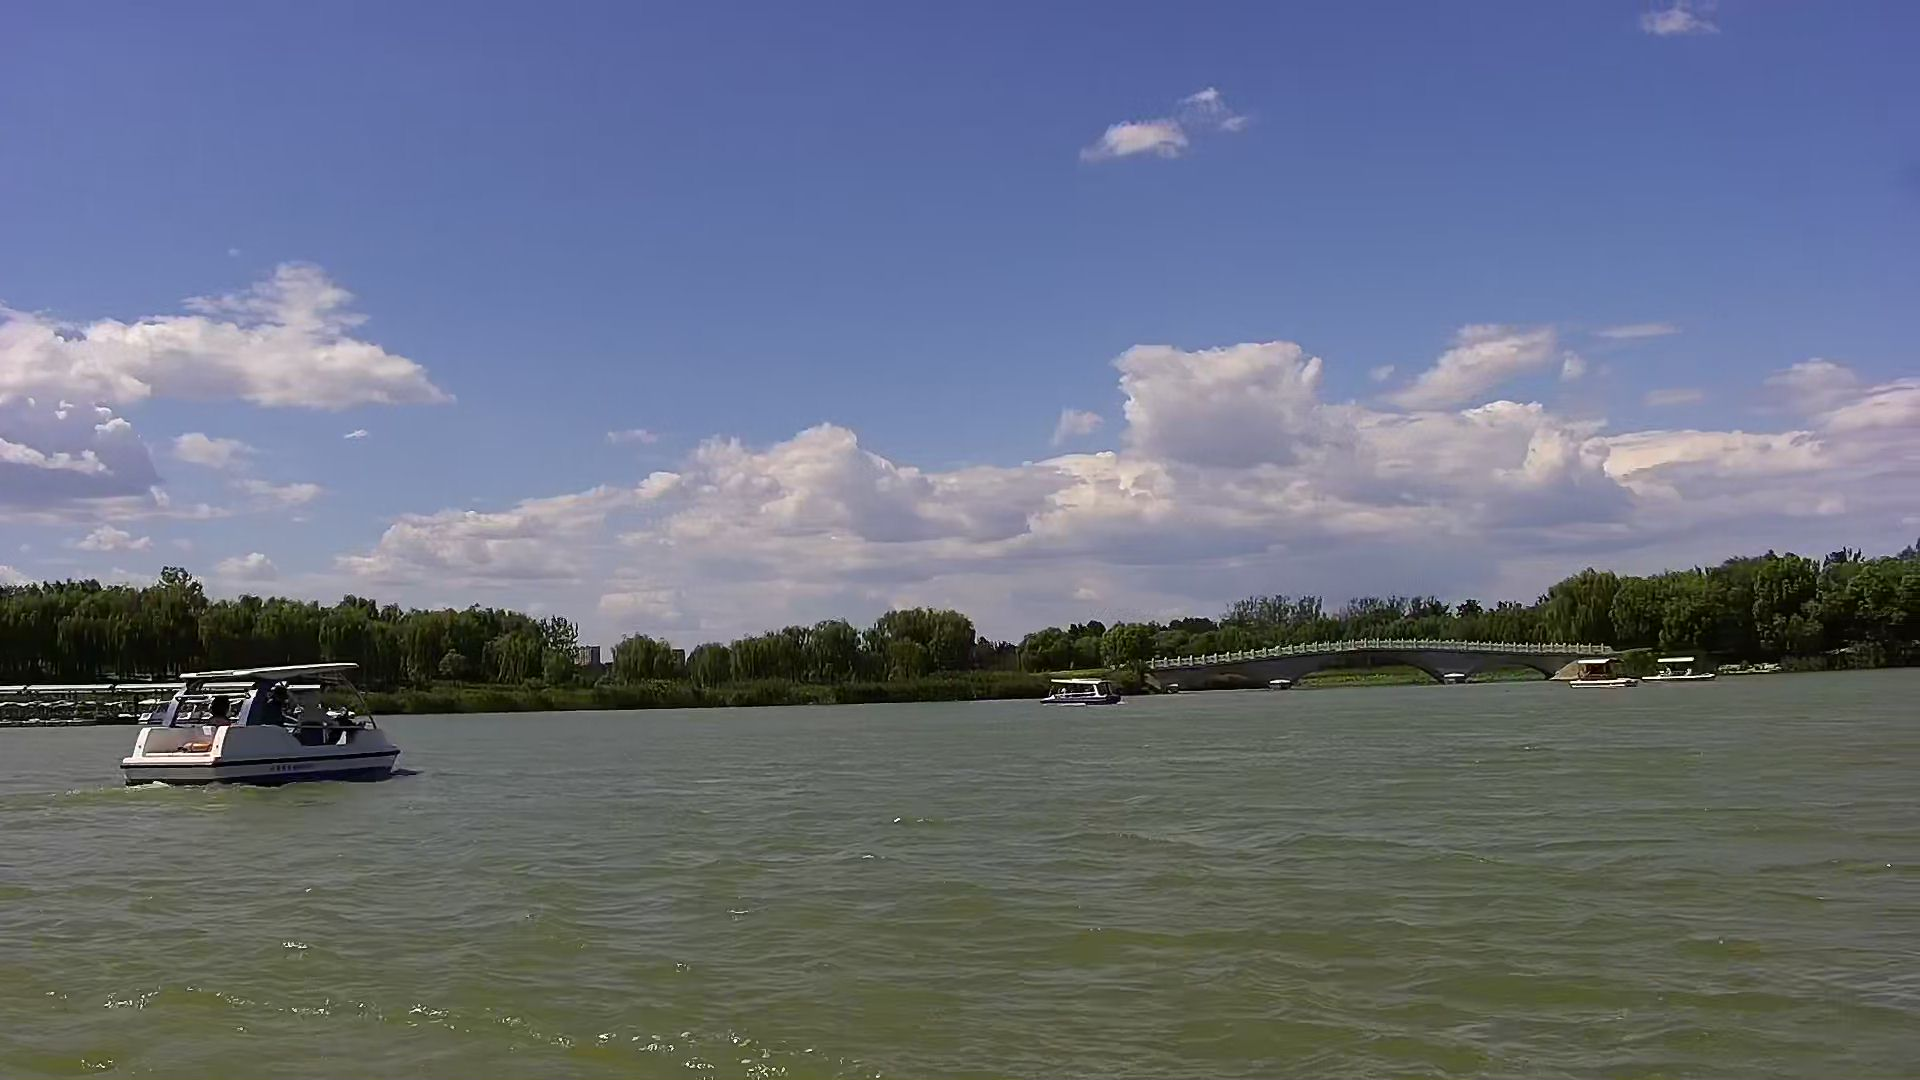boat: (105, 661, 400, 795), (1043, 658, 1124, 719), (1560, 654, 1640, 698), (1651, 647, 1720, 698)
bridge: (1155, 637, 1560, 691)
